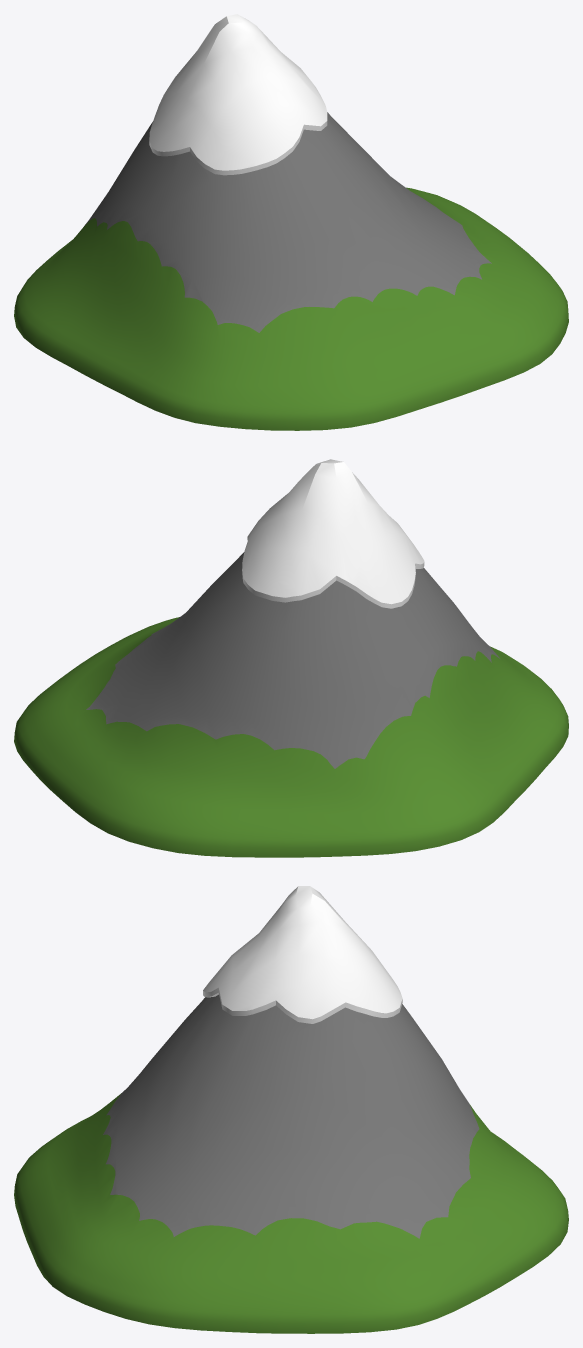
File: snow_capped_mountain.fbx
The picture shows the model from 3 angles, top to bottom: view 1: azimuth 30°, elevation 25°; view 2: azimuth 150°, elevation 25°; view 3: azimuth 270°, elevation 25°; orthographic projection. The views are drawn at different scales.
Parts seen in each view (by area): view 1: Cube.456; view 2: Cube.456; view 3: Cube.456.
Boxes of the visible parts, bbox=[...] form: Cube.456: bbox=[14, 14, 568, 430]; Cube.456: bbox=[14, 459, 568, 857]; Cube.456: bbox=[14, 886, 568, 1333].
Size of the model in its own units: 239 by 152 by 247.
1 material, 1 textured.
